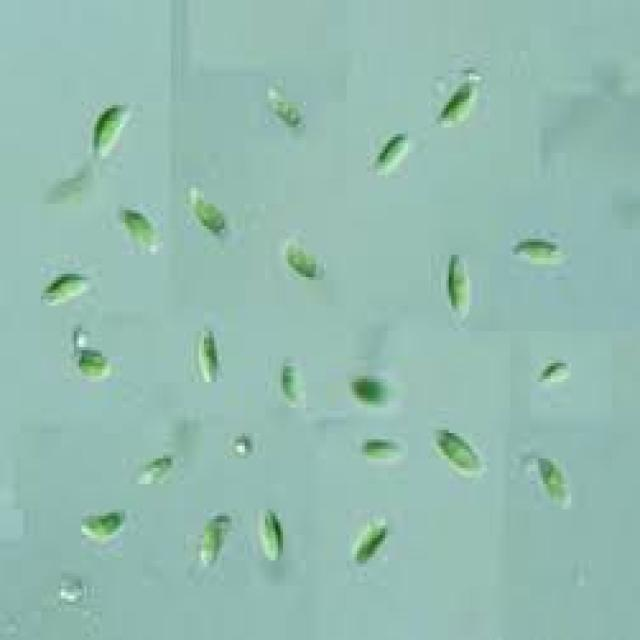Green Algae: (186, 182, 235, 245), (434, 420, 484, 481), (86, 102, 132, 156), (263, 80, 306, 137), (347, 516, 395, 567), (431, 82, 479, 130), (280, 232, 324, 284), (533, 443, 571, 503), (120, 207, 163, 258), (370, 131, 418, 175), (44, 267, 94, 309), (444, 252, 474, 322), (515, 232, 569, 268), (362, 433, 413, 468), (79, 510, 125, 548), (275, 356, 306, 411), (74, 344, 115, 385), (199, 322, 222, 392), (255, 506, 283, 560), (135, 449, 171, 490), (538, 354, 574, 388)
